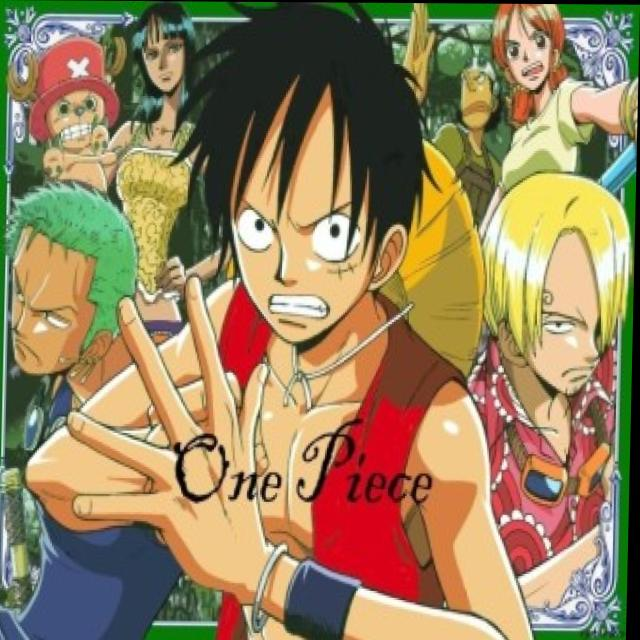Chyopa: (16, 31, 130, 171)
Luffy: (199, 35, 489, 390)
Nami: (471, 3, 609, 146)
NicoRobin: (110, 11, 210, 138)
Sangdi: (471, 167, 634, 409)
Zoro: (5, 181, 138, 376)
